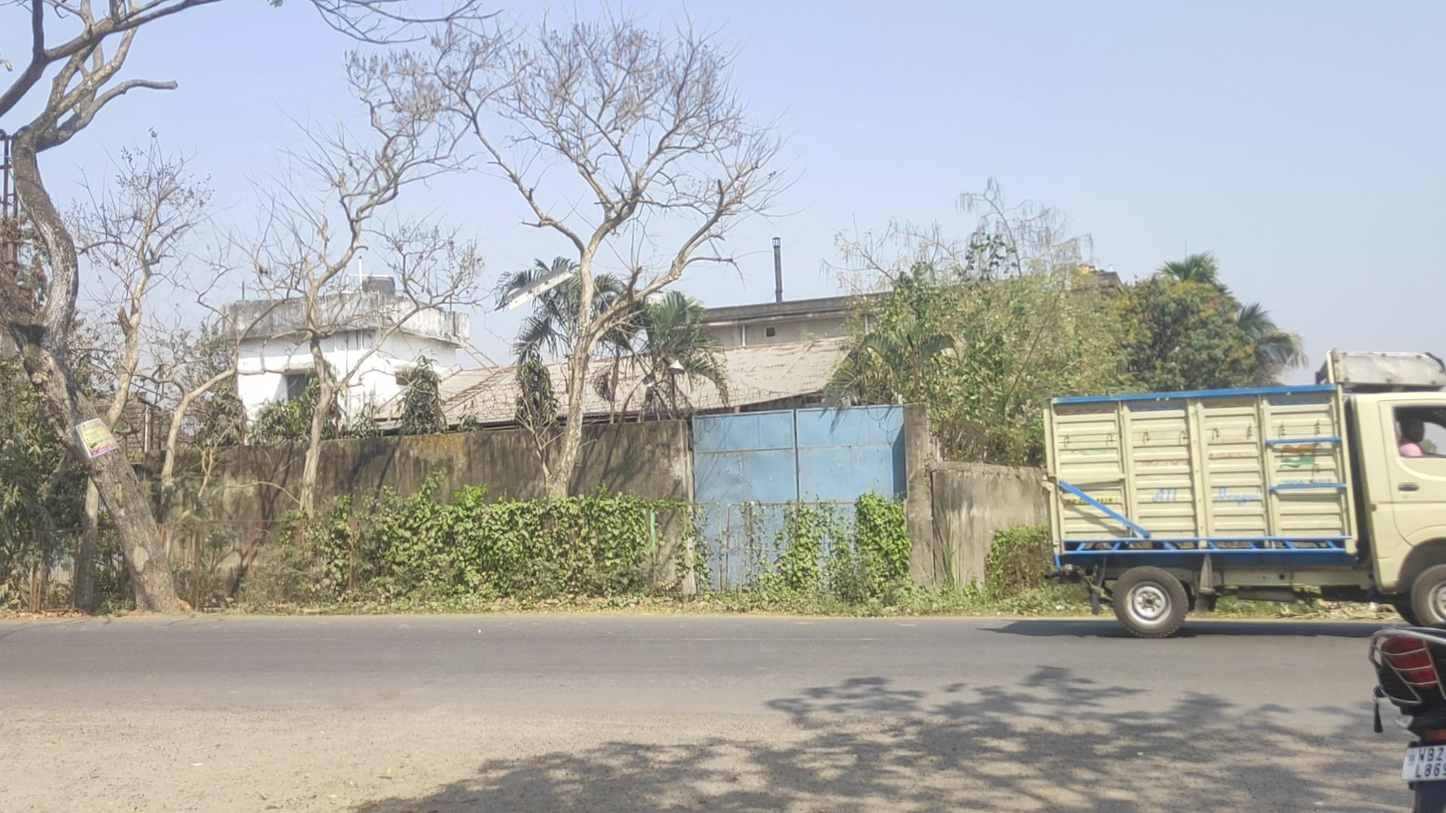van: (1039, 349, 1446, 638)
